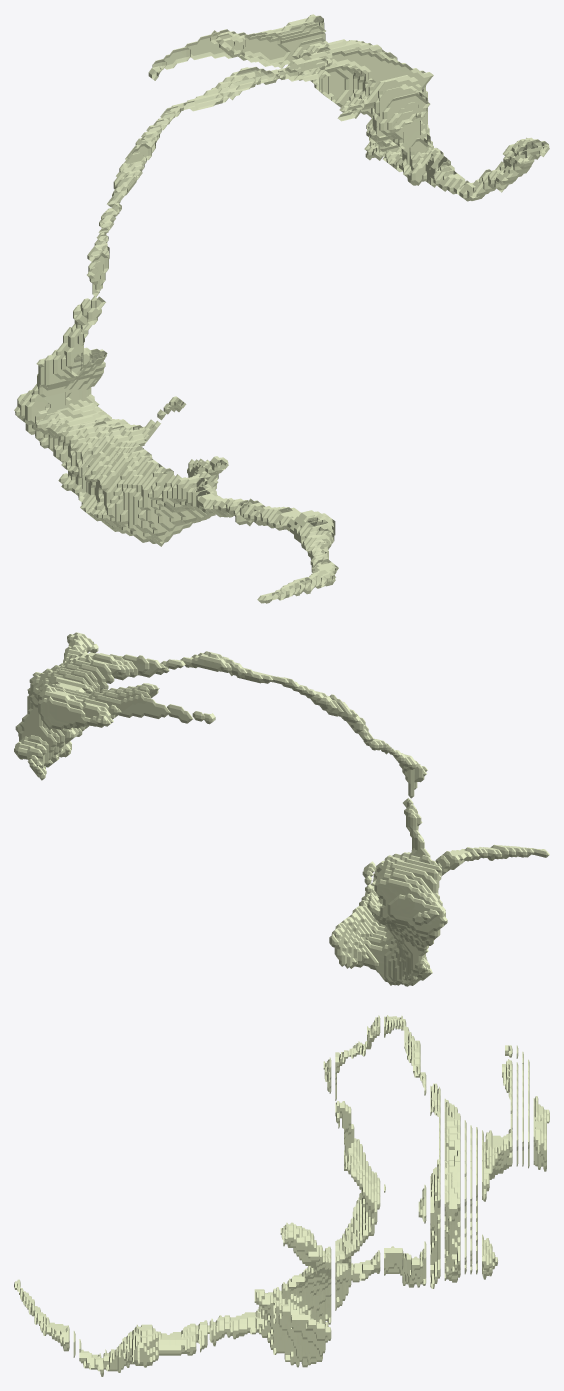
The model's file is SVV_RMDDL.gltf.
The picture shows the model from 3 angles, top to bottom: view 1: azimuth 30°, elevation 25°; view 2: azimuth 150°, elevation 25°; view 3: azimuth 270°, elevation 25°; orthographic projection. The views are drawn at different scales.
Visible parts, largest first — view 1: RMDDL; view 2: RMDDL; view 3: RMDDL.
Part boxes in pixels (box(x1,y1,x2,y2)): RMDDL: box(14, 14, 549, 603); RMDDL: box(14, 632, 549, 986); RMDDL: box(14, 1015, 549, 1376).
Size of the model in its own units: 73764 by 57368 by 71602.
